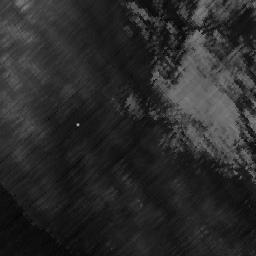Target: (74, 122, 80, 128)
